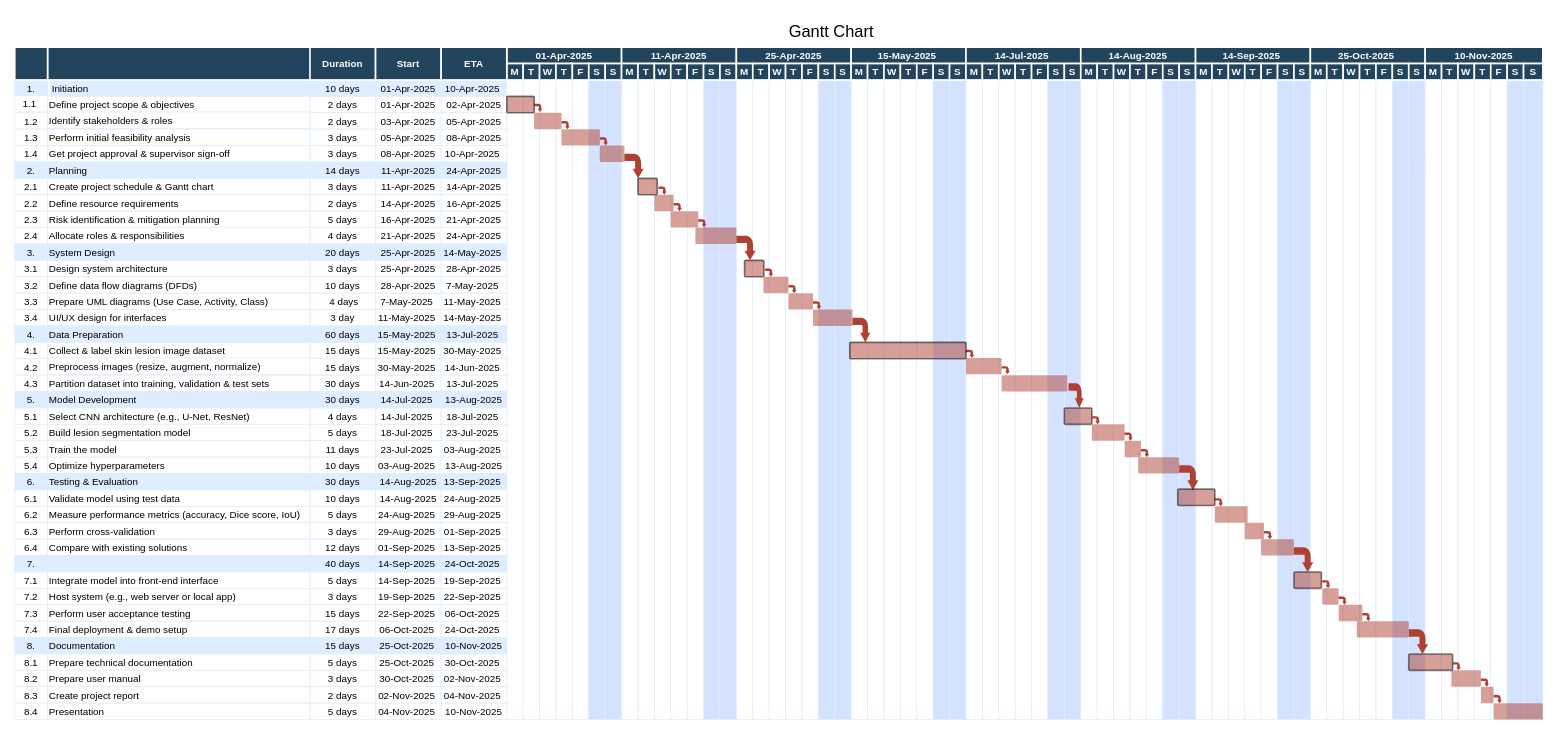
Image size: 1558x734. Some labels were removed from this diagram. The centre of each missing label's shape, as x and y in pixels:
Deployment: the point at 178,563
S no.: the point at 31,63
Task Name: the point at 179,63
